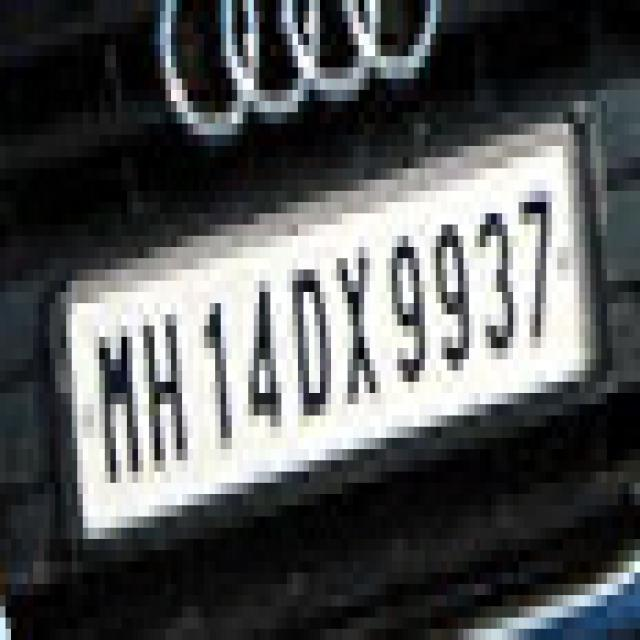1: (200, 292, 238, 461)
3: (472, 196, 516, 378)
4: (242, 272, 286, 452)
7: (516, 178, 556, 358)
9: (388, 223, 434, 391), (431, 212, 473, 374)
D: (286, 248, 336, 440)
H: (140, 303, 192, 483)
M: (91, 306, 142, 486)
X: (332, 240, 382, 412)
